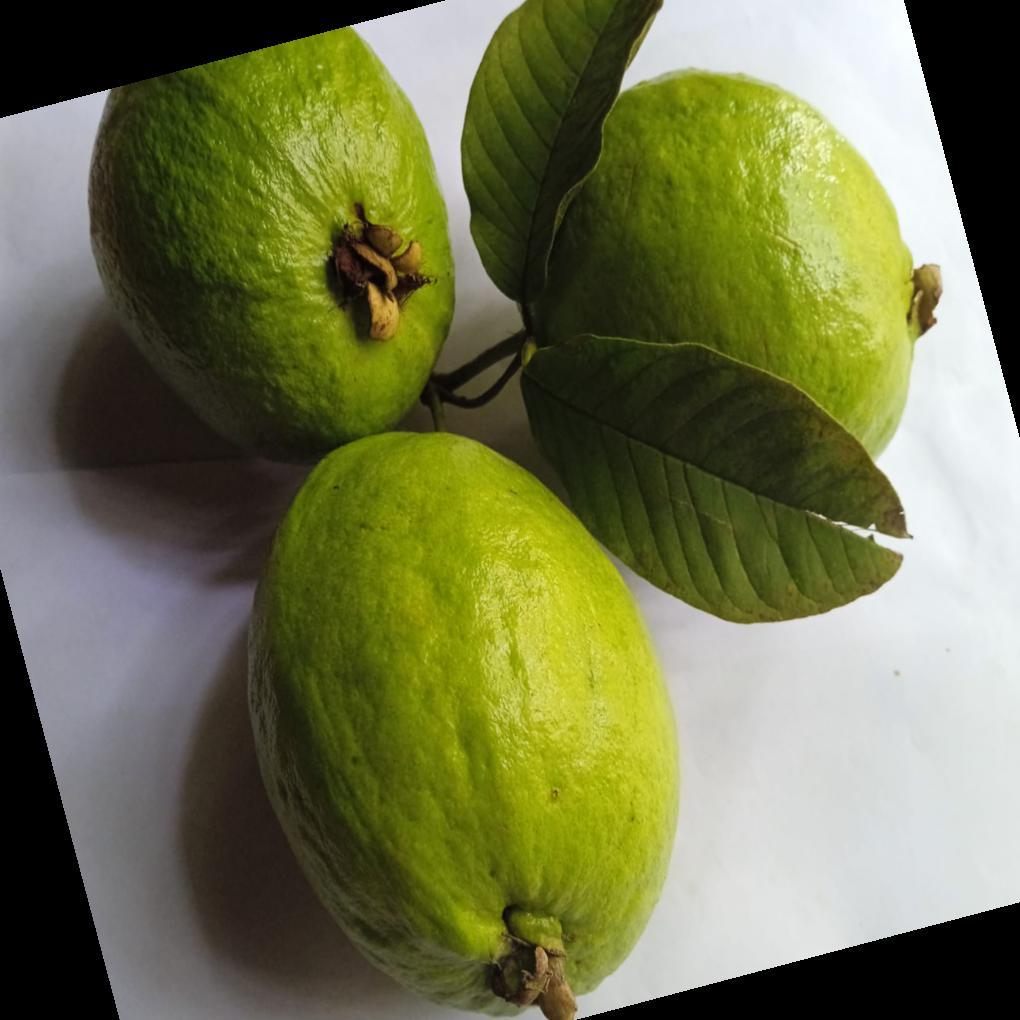FreshGuava: (86, 29, 682, 1020)
